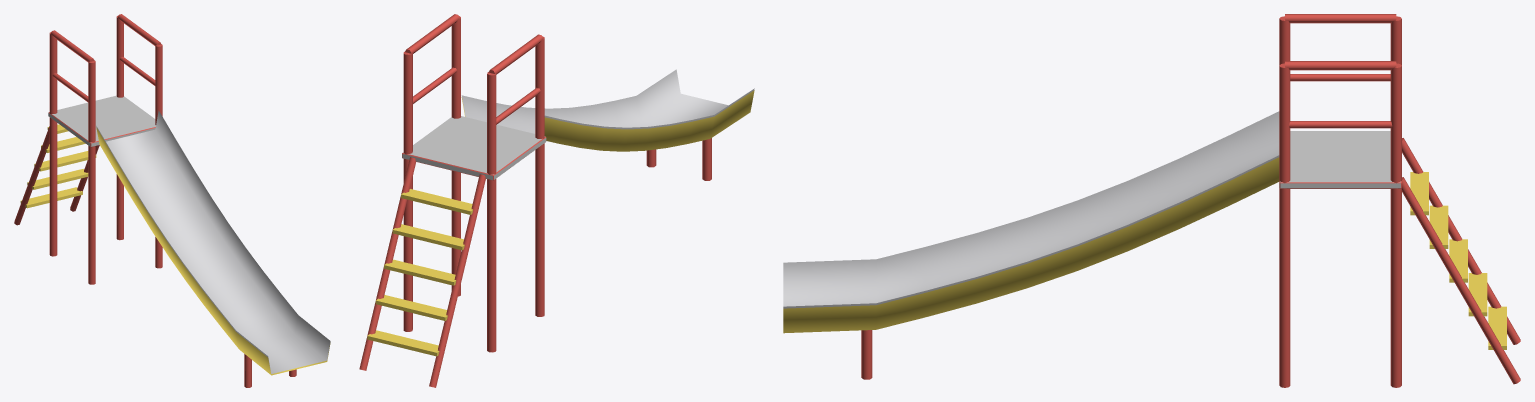
Rendered from playground_slide.glb.
The picture shows the model from 3 angles, left to right: view 1: azimuth 30°, elevation 25°; view 2: azimuth 150°, elevation 25°; view 3: azimuth 270°, elevation 25°; orthographic projection. The views are drawn at different scales.
Visible parts, largest first — view 1: playground_slide; view 2: playground_slide; view 3: playground_slide.
Part boxes in pixels (bbox=[...]): playground_slide: bbox=[14, 14, 330, 387]; playground_slide: bbox=[359, 14, 754, 387]; playground_slide: bbox=[783, 14, 1520, 387].
Size of the model in its own units: 0.66 by 1.93 by 3.97.
